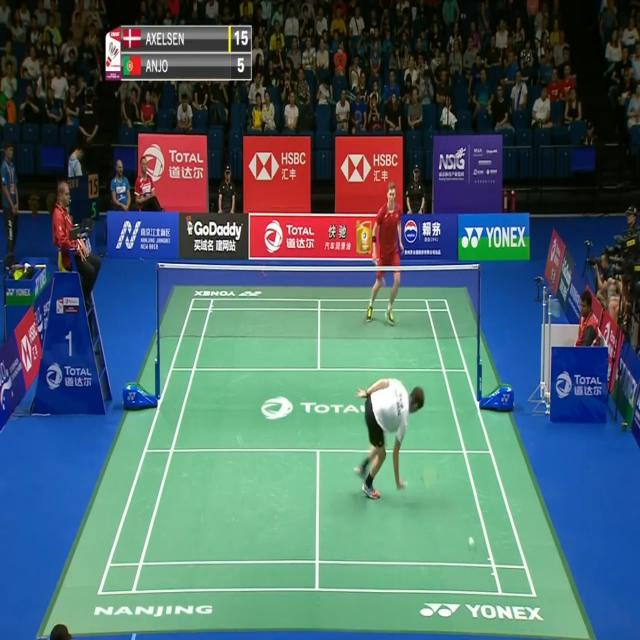Player1: (351, 371, 441, 503)
Player2: (364, 177, 412, 330)
